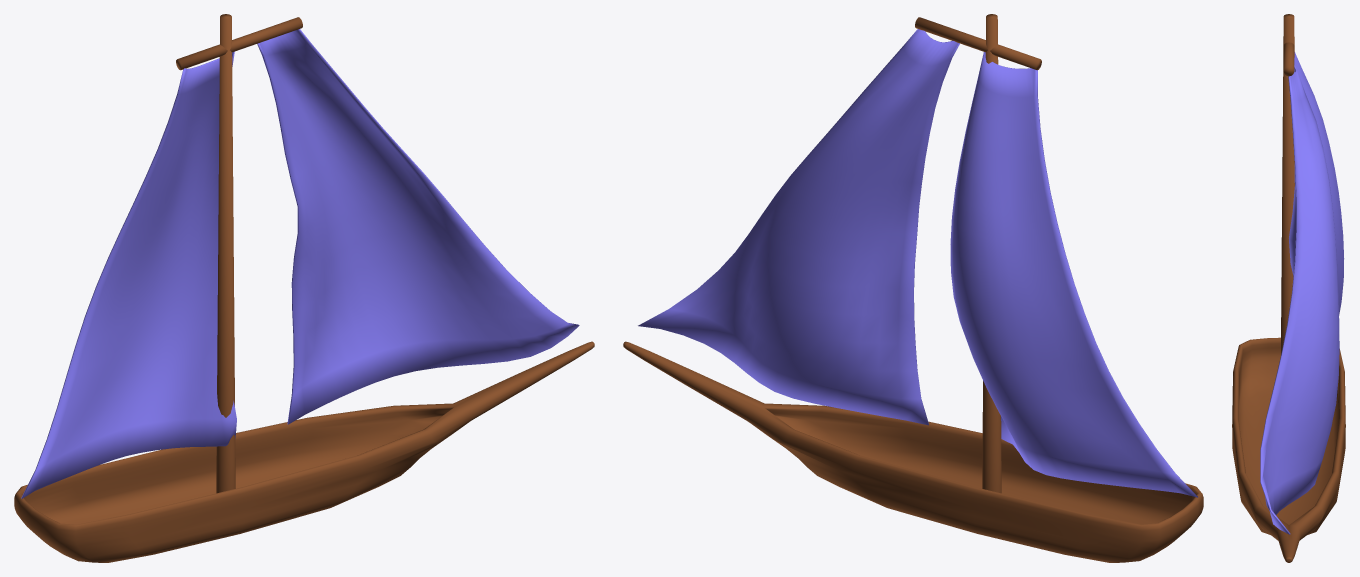
The model's file is КОРАБЛЯК.fbx.
The picture shows the model from 3 angles, left to right: view 1: azimuth 30°, elevation 25°; view 2: azimuth 150°, elevation 25°; view 3: azimuth 270°, elevation 25°; orthographic projection. The views are drawn at different scales.
Visible parts, largest first — view 1: Plane.003, Plane, Plane.002; view 2: Plane.003, Plane, Plane.002; view 3: Plane.003, Plane, Plane.002.
Boxes of the visible parts, x1=… form: Plane.003: x1=21, y1=29, x2=579, y2=498; Plane: x1=14, y1=341, x2=594, y2=562; Plane.002: x1=176, y1=14, x2=302, y2=493; Plane.003: x1=638, y1=29, x2=1197, y2=497; Plane: x1=623, y1=341, x2=1203, y2=562; Plane.002: x1=915, y1=14, x2=1041, y2=493; Plane.003: x1=1260, y1=52, x2=1344, y2=534; Plane: x1=1232, y1=337, x2=1345, y2=562; Plane.002: x1=1281, y1=14, x2=1294, y2=354.
Size of the model in its own units: 1654 by 1400 by 312.
